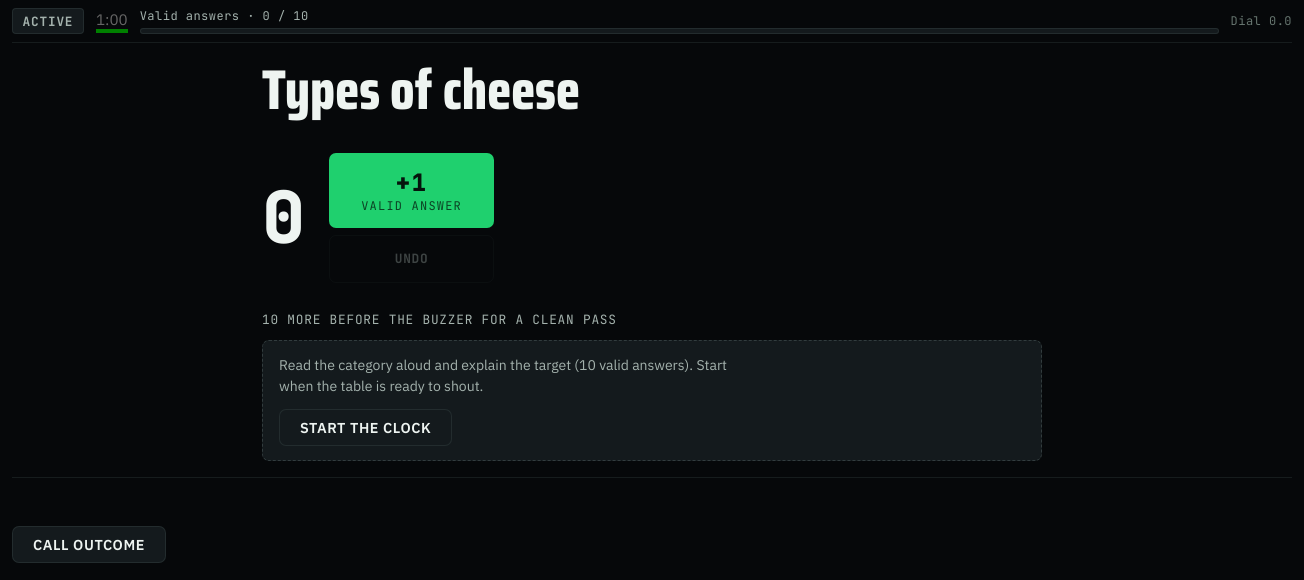
Scenario: CategoriesComponent — tally controls › undo decrements the tally
Click the button with test id "tally-increment". click: (412, 190)
box: [329,153,494,228]
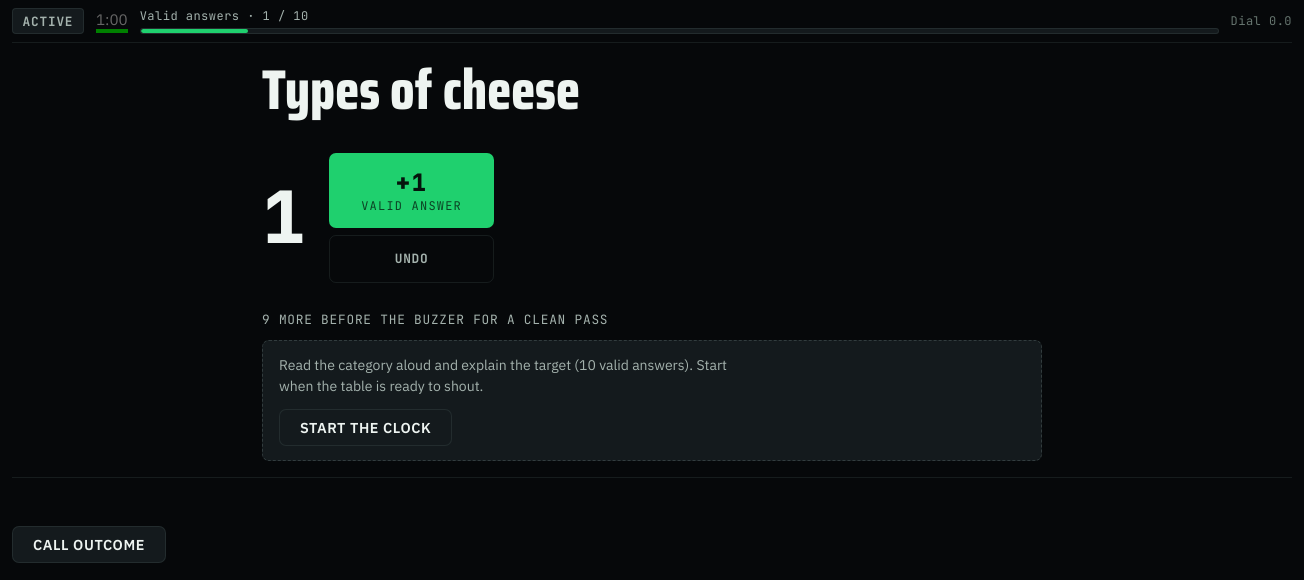
Click the button with test id "tally-undo". click: (412, 259)
box: [329,235,494,283]
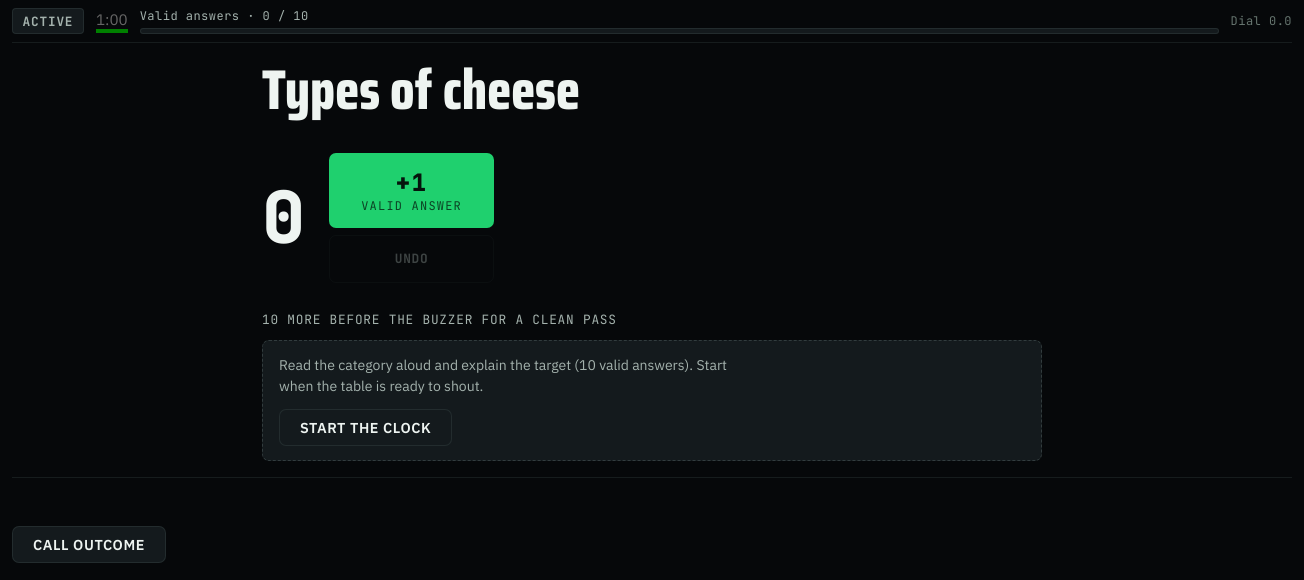
expect the text with test id "tally-count" reads "0": met, box [262,170,305,265]
